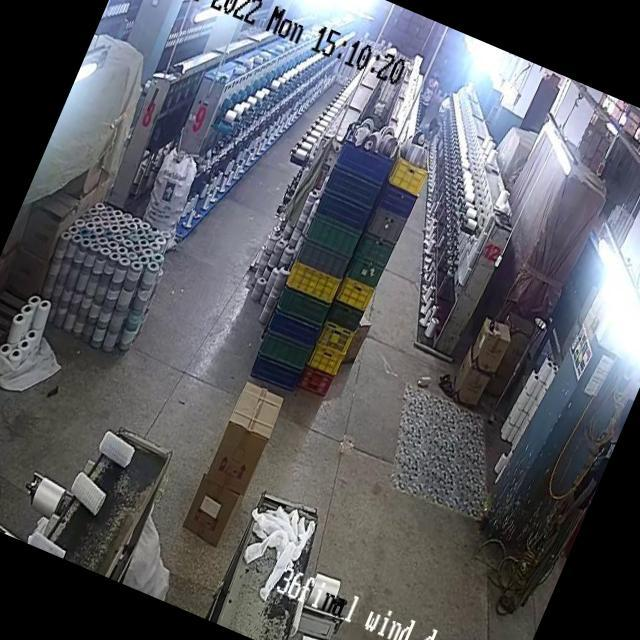person: (413, 66, 448, 120), (416, 112, 442, 146), (428, 116, 448, 146)
